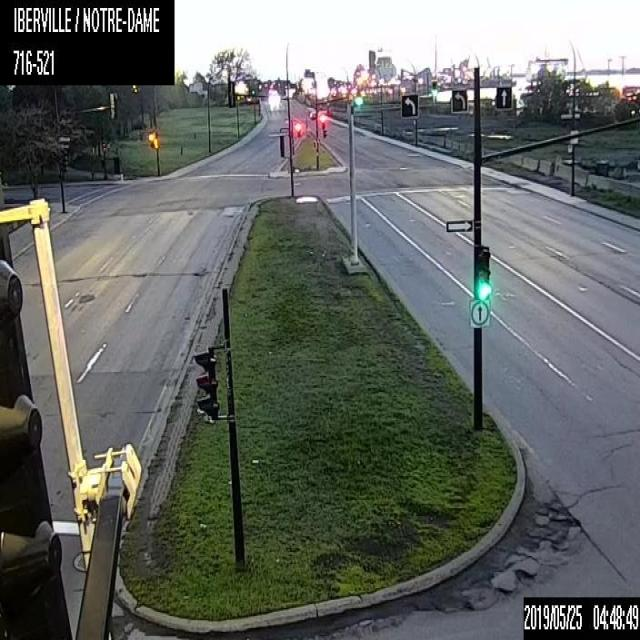vehicle: (268, 97, 280, 110), (306, 108, 314, 119)
